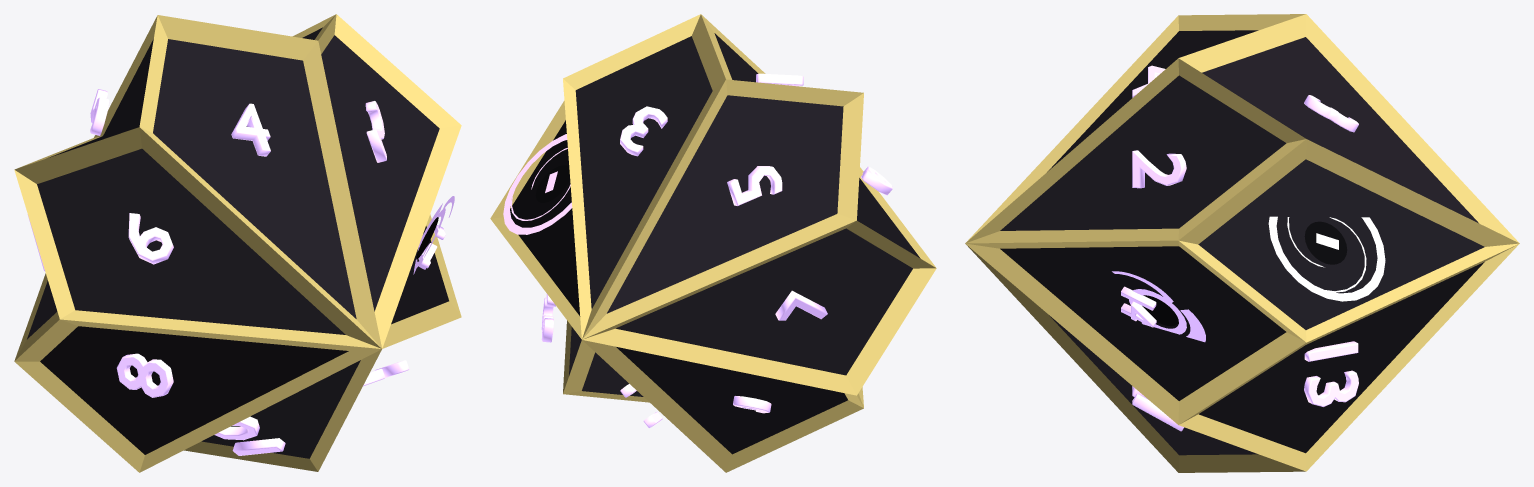
Rendered from d14_black_hole_gold.glb.
3 renders of one model, left to right at view 1: azimuth 30°, elevation 25°; view 2: azimuth 150°, elevation 25°; view 3: azimuth 270°, elevation 25°, orthographic. The views are drawn at different scales.
Parts seen in each view (by area): view 1: D14_BlackHole_Gold; view 2: D14_BlackHole_Gold; view 3: D14_BlackHole_Gold.
Boxes of the visible parts, <box> form: D14_BlackHole_Gold: <box>14,14,461,472</box>; D14_BlackHole_Gold: <box>490,14,936,472</box>; D14_BlackHole_Gold: <box>965,14,1519,472</box>.
Size of the model in its own units: 4.4 by 4.29 by 5.2.
